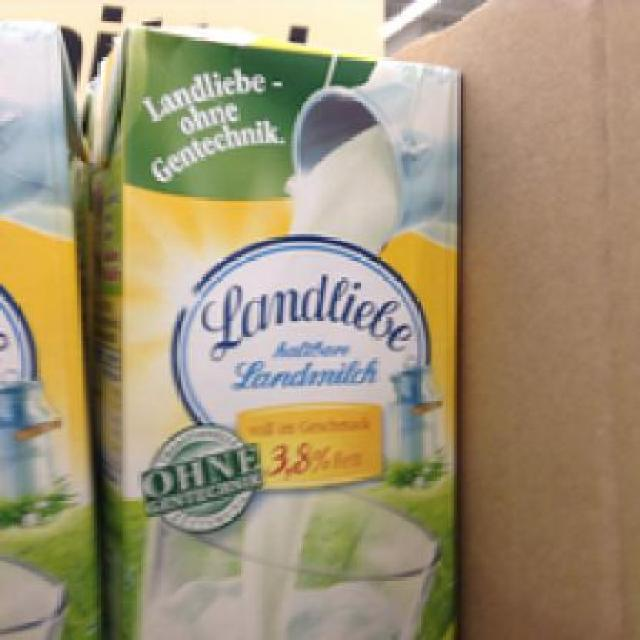Milk: (83, 19, 460, 635)
